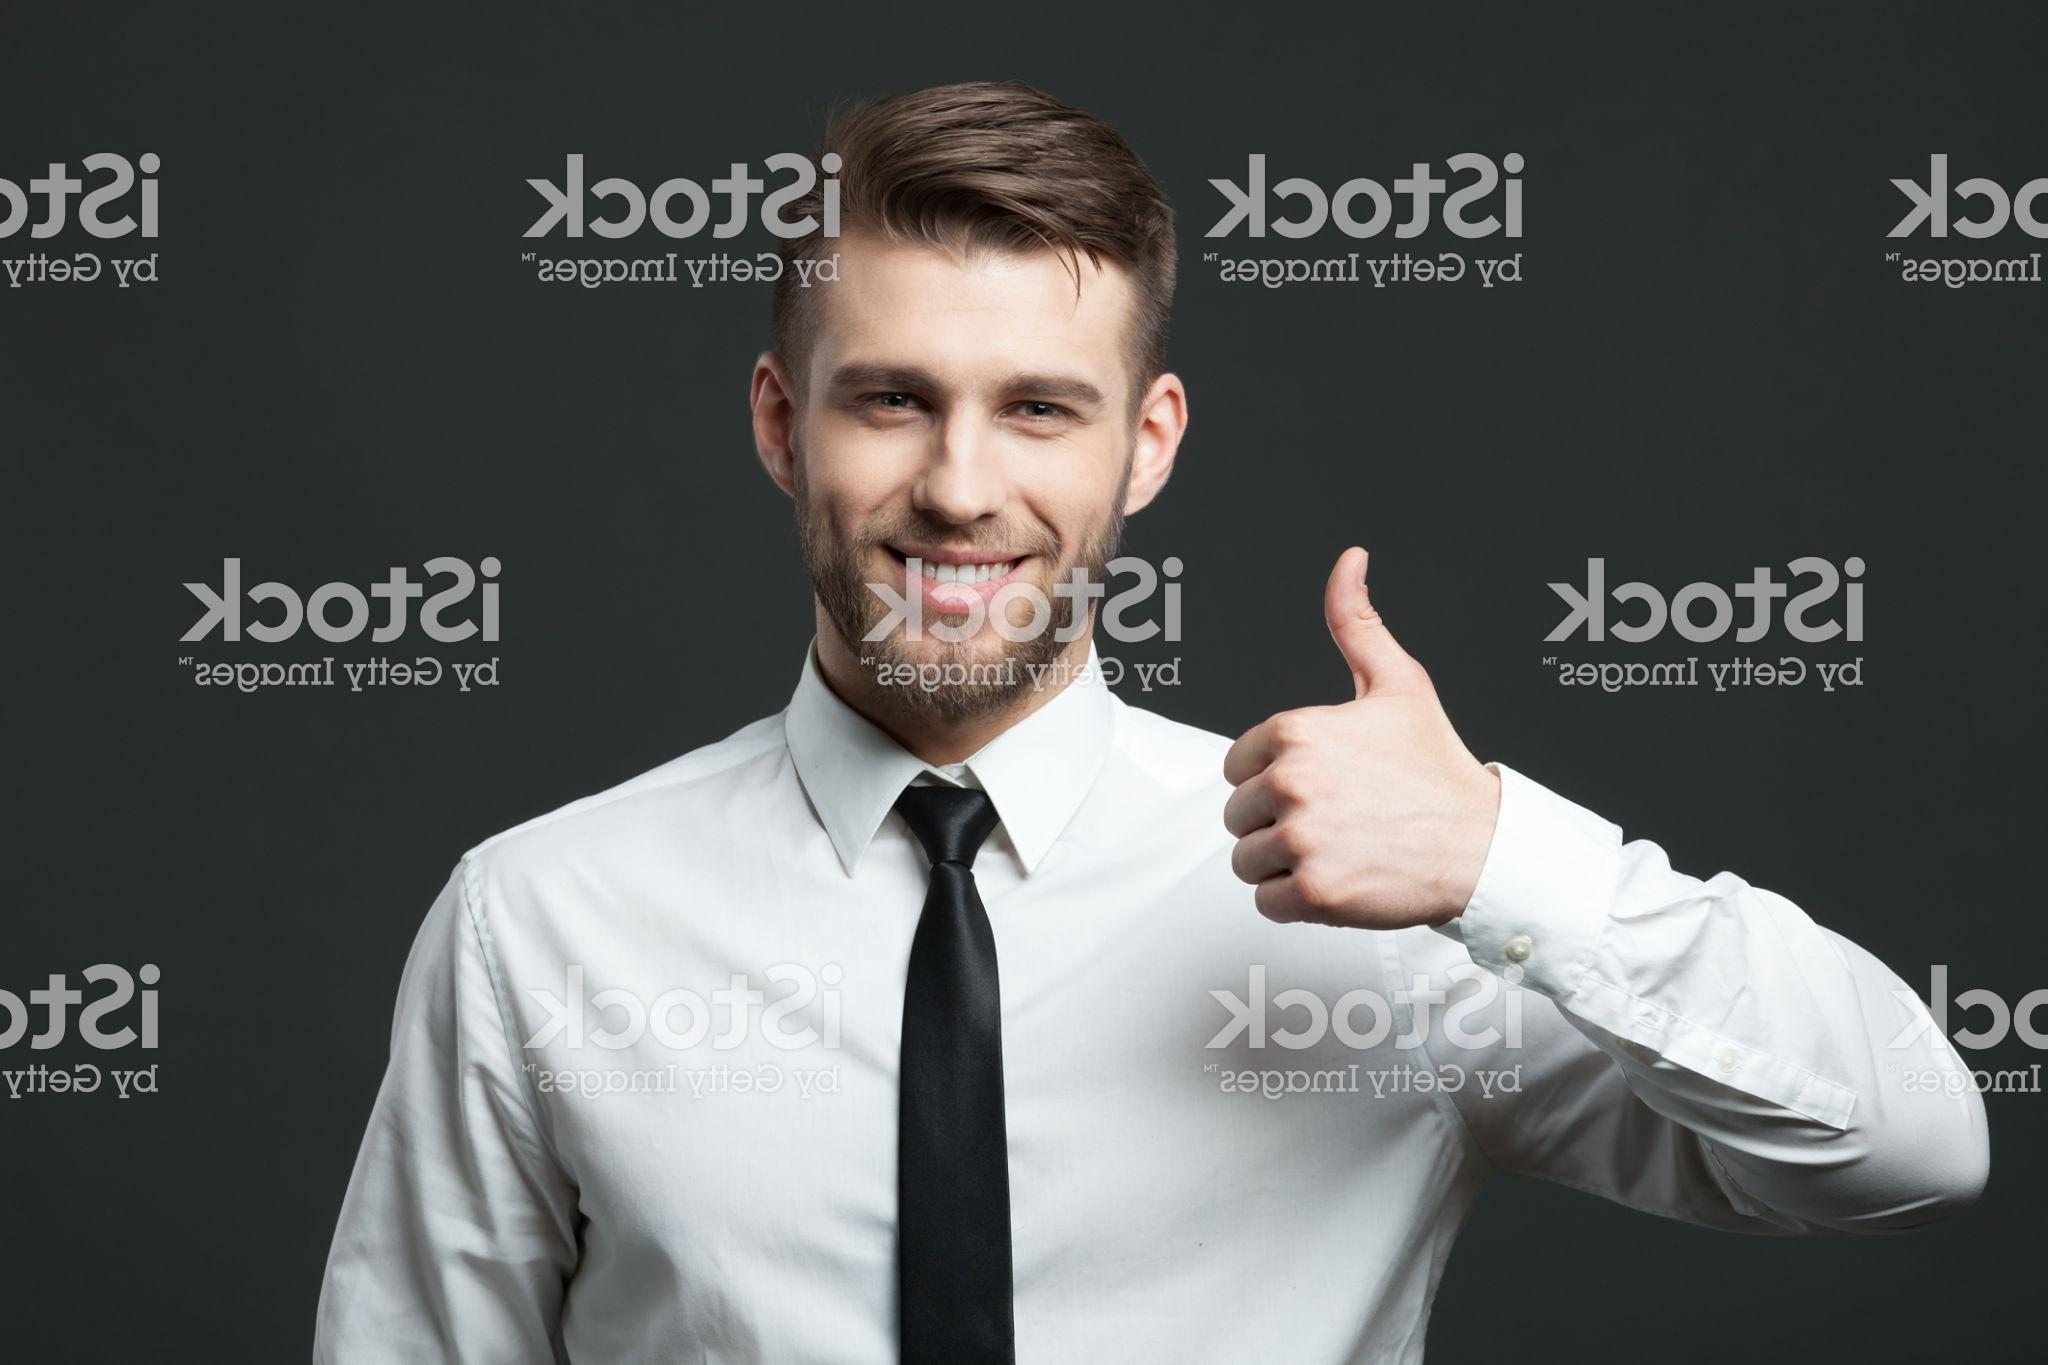thumbsup: (1220, 541, 1466, 932)
